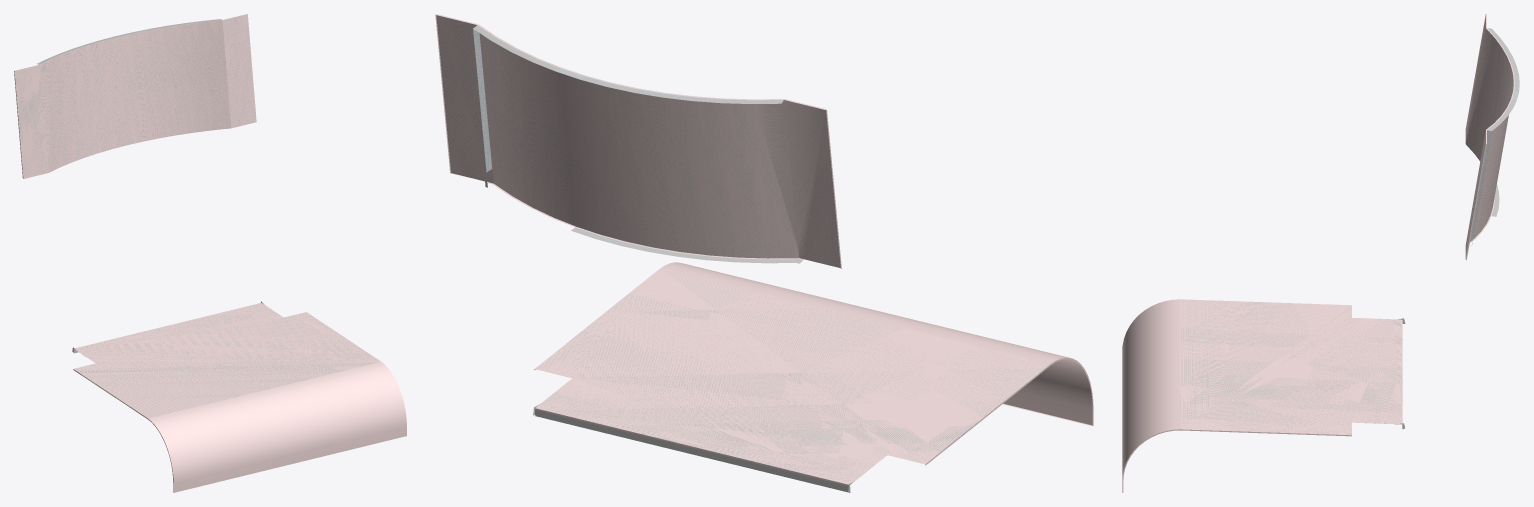
Rendered from cushion.dae.
3 views of the same model, side by side, from view 1: azimuth 30°, elevation 25°; view 2: azimuth 150°, elevation 25°; view 3: azimuth 270°, elevation 25° (orthographic). The views are drawn at different scales.
Parts seen in each view (by area): view 1: SketchUp, SketchUp_017, SketchUp_015; view 2: SketchUp_017, SketchUp, SketchUp_015, SketchUp_014, SketchUp_047; view 3: SketchUp_017, SketchUp_015, SketchUp.
Boxes of the visible parts, <box> form: SketchUp: <box>14,14,256,178</box>; SketchUp_017: <box>73,303,380,419</box>; SketchUp_015: <box>148,361,406,492</box>; SketchUp_017: <box>535,268,1050,486</box>; SketchUp: <box>435,14,841,268</box>; SketchUp_015: <box>534,262,1093,426</box>; SketchUp_014: <box>535,410,854,492</box>; SketchUp_047: <box>473,29,492,172</box>; SketchUp_017: <box>1180,299,1402,435</box>; SketchUp_015: <box>1122,299,1351,492</box>; SketchUp: <box>1465,14,1513,259</box>.
Size of the model in its own units: 0.38 by 0.491 by 0.4754.
